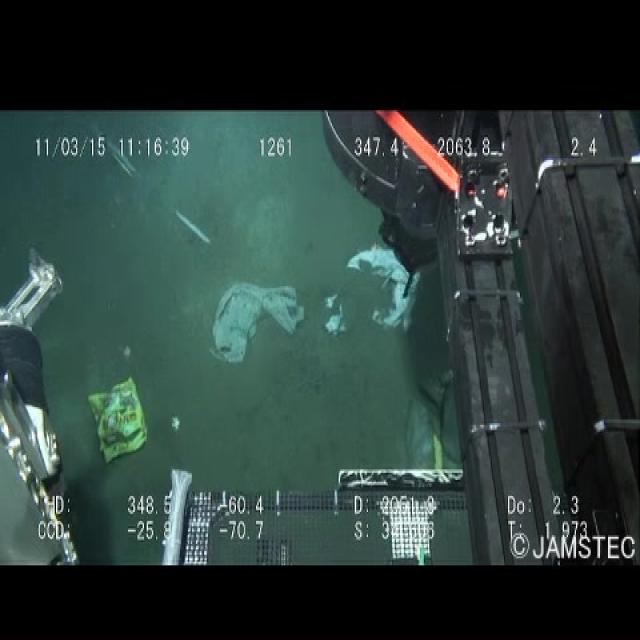plastic: (320, 235, 424, 345), (207, 276, 308, 374), (84, 372, 151, 462)
